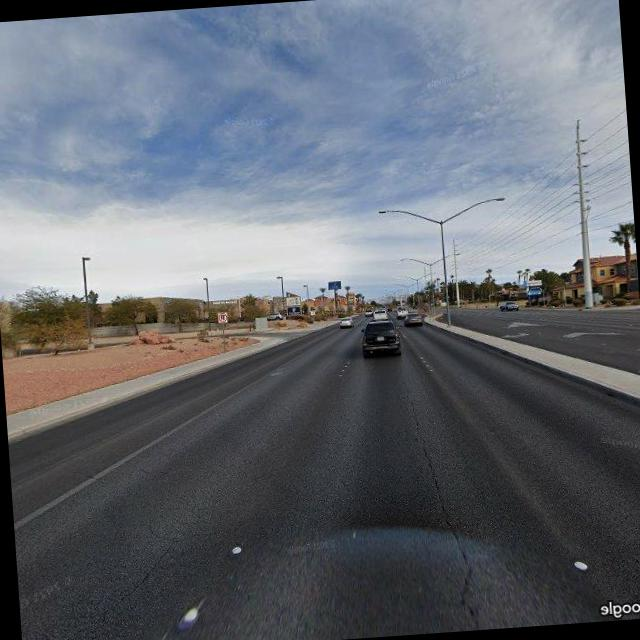pothole: (414, 399, 488, 630), (78, 530, 188, 639)
